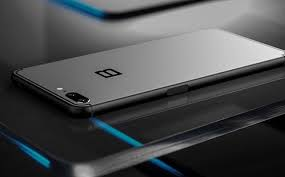bphone: (8, 25, 285, 117)
